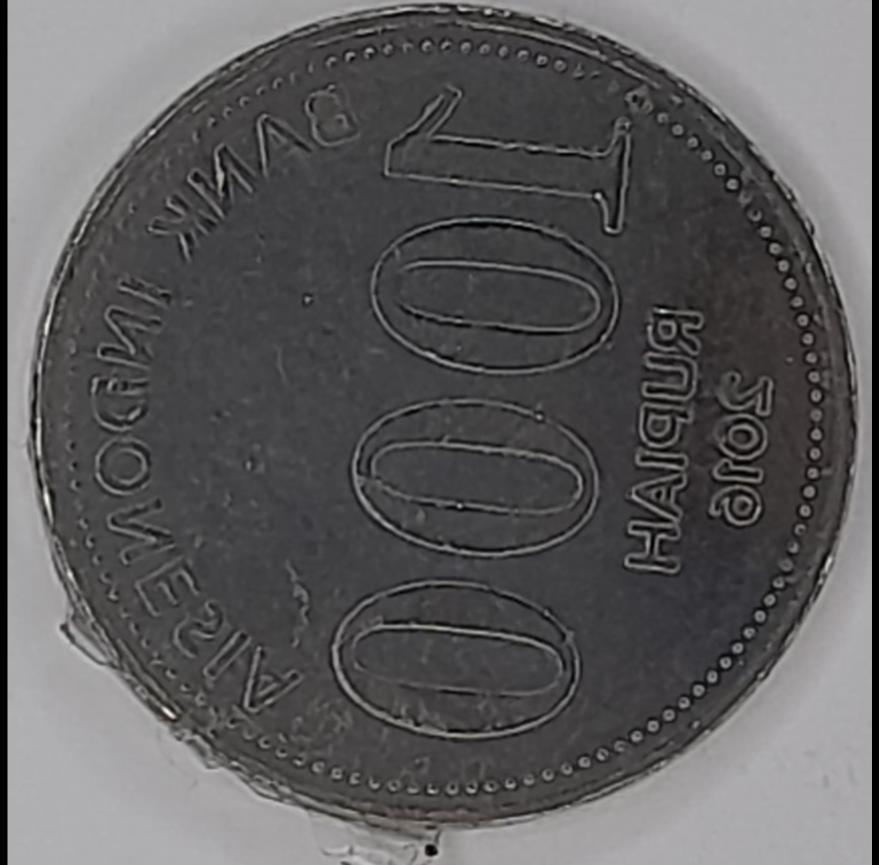coin_1000_e2016: (15, 17, 867, 865)
